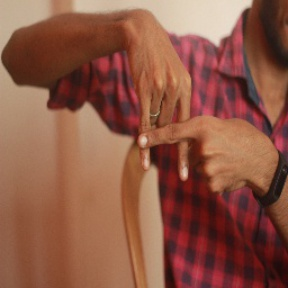H: (125, 73, 222, 201)
